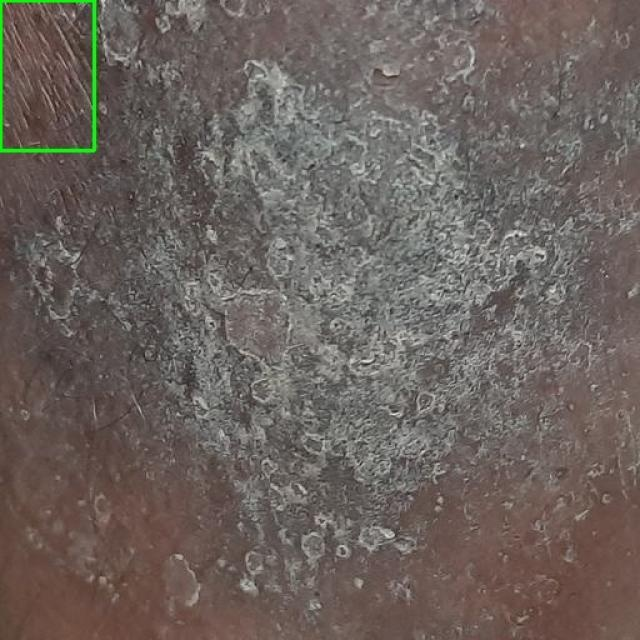Tinea Corporis: (0, 0, 94, 150)
